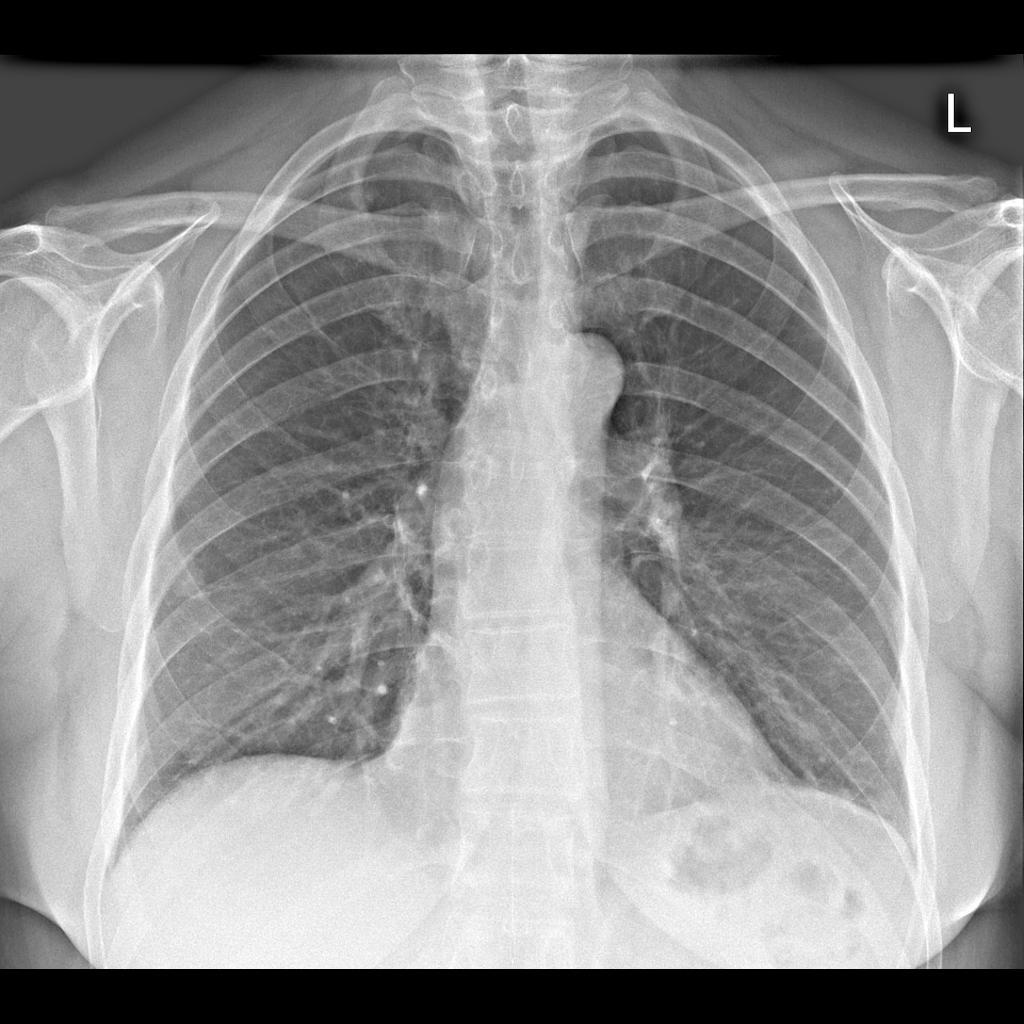Nodule: (165, 557, 217, 611)
